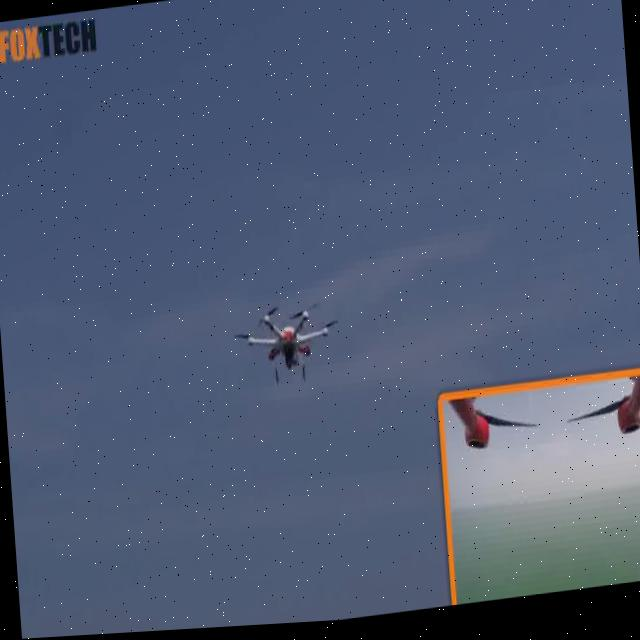drone: (6, 354, 640, 640)
